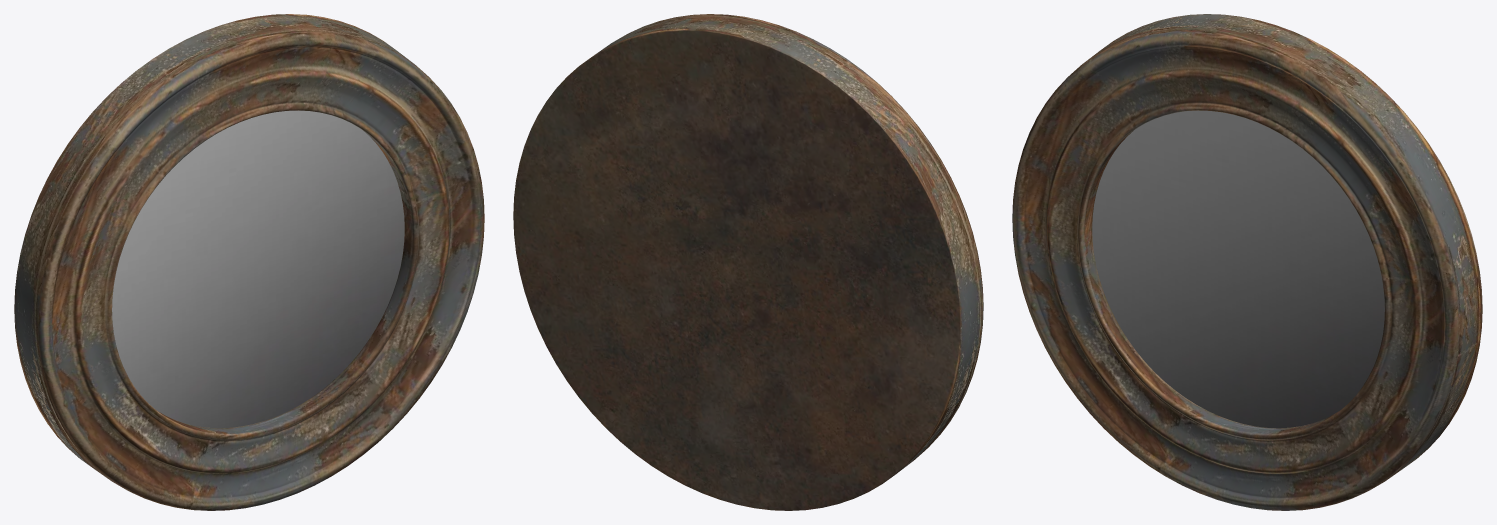
File: abo-B071V8H94C.glb
The picture shows the model from 3 angles, left to right: view 1: azimuth 30°, elevation 25°; view 2: azimuth 150°, elevation 25°; view 3: azimuth 330°, elevation 25°; orthographic projection.
Size of the model in its own units: 0.585 by 0.585 by 0.061.
1 material, 1 textured.
